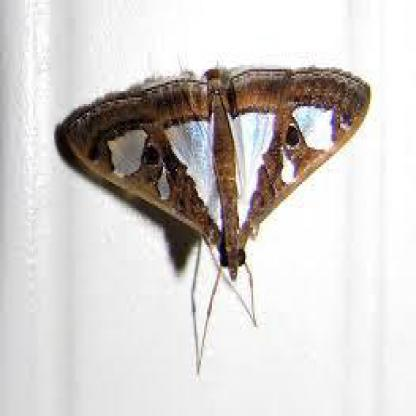Leaf Webber: (56, 64, 374, 282)
